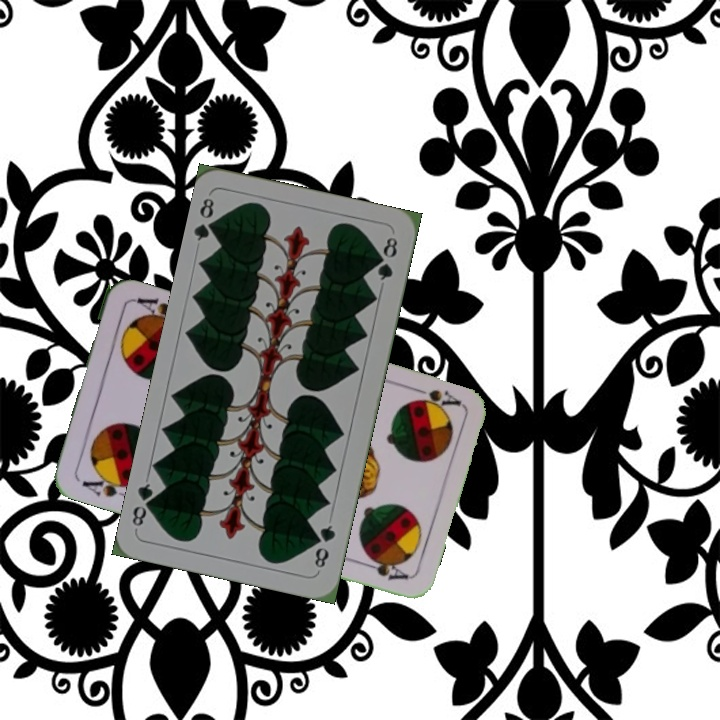G8: (190, 194, 222, 244), (310, 521, 338, 571)
SA: (405, 382, 463, 412), (78, 469, 133, 500)
